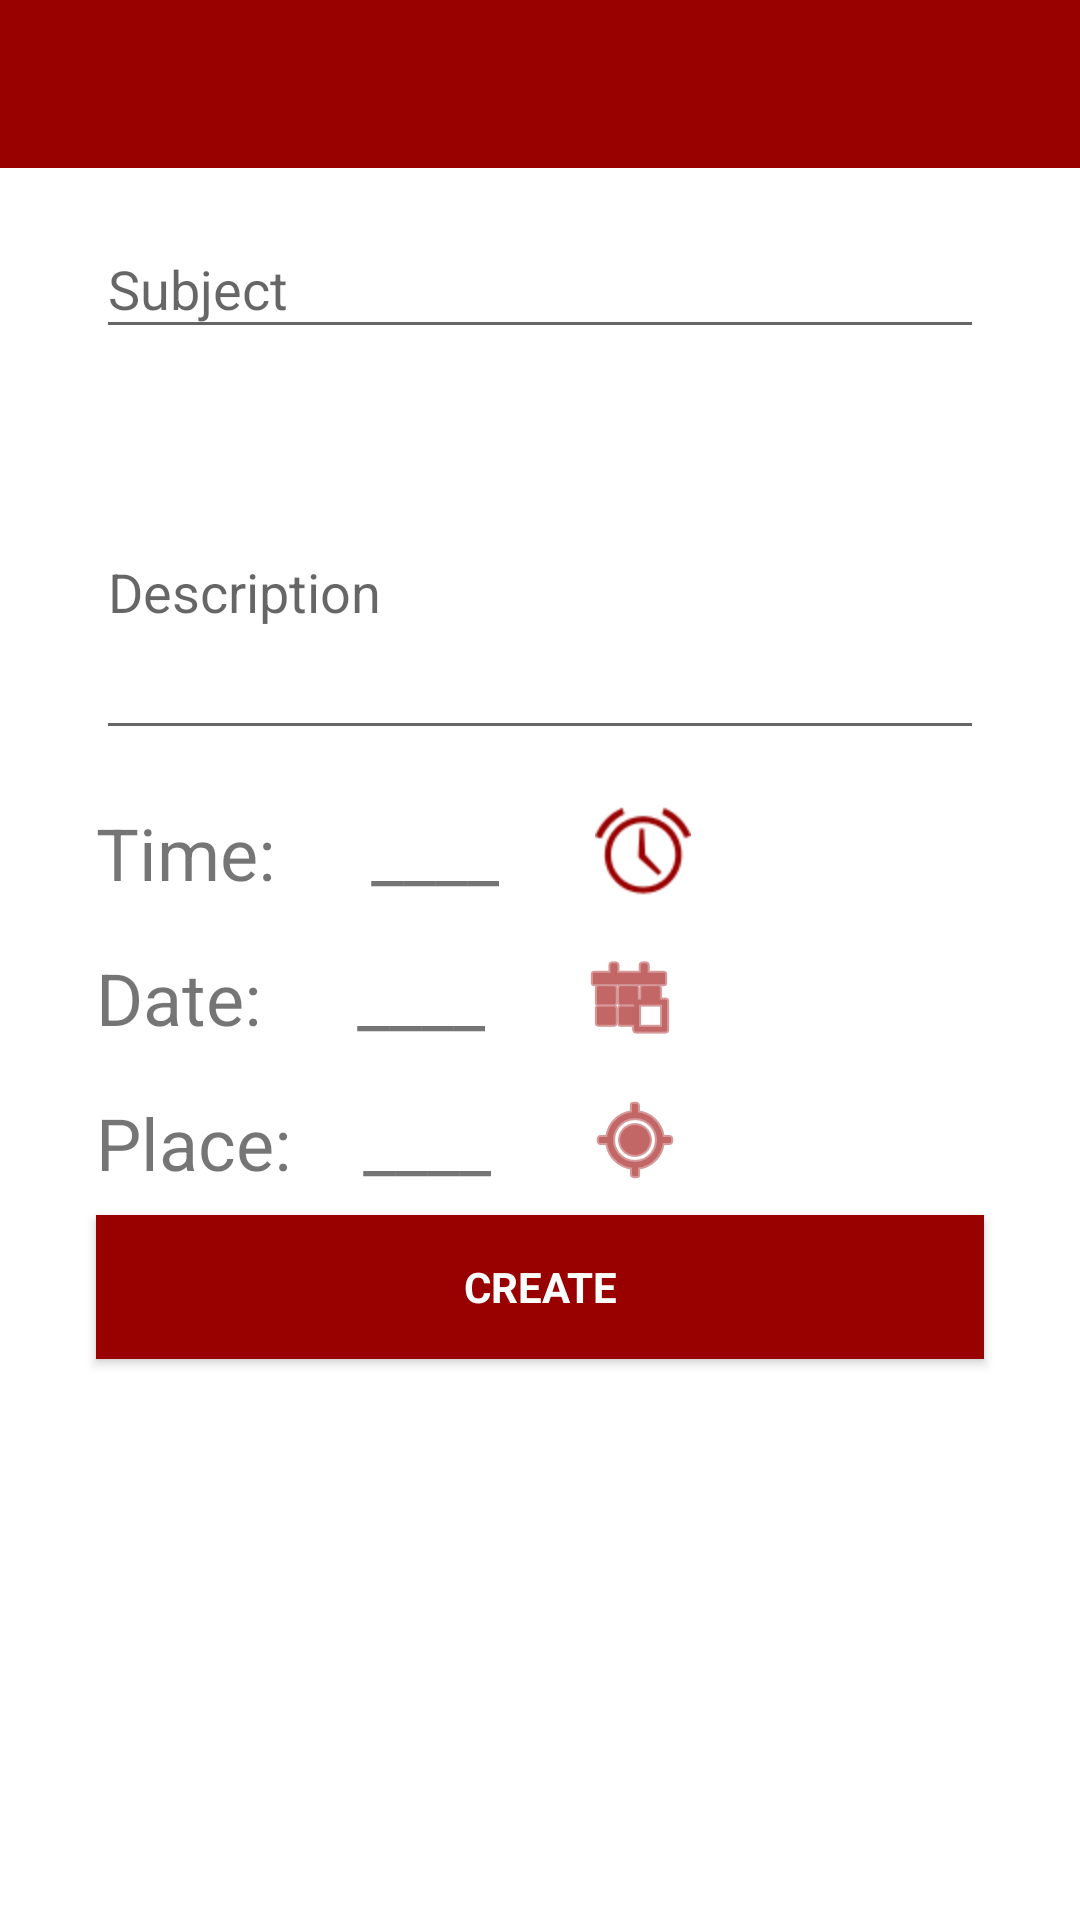

Named icons in this screenshot (1080×1920) and their centers, (x,y):
lock idle alarm: (643,851)
mylocation: (635,1140)
today: (630,997)
